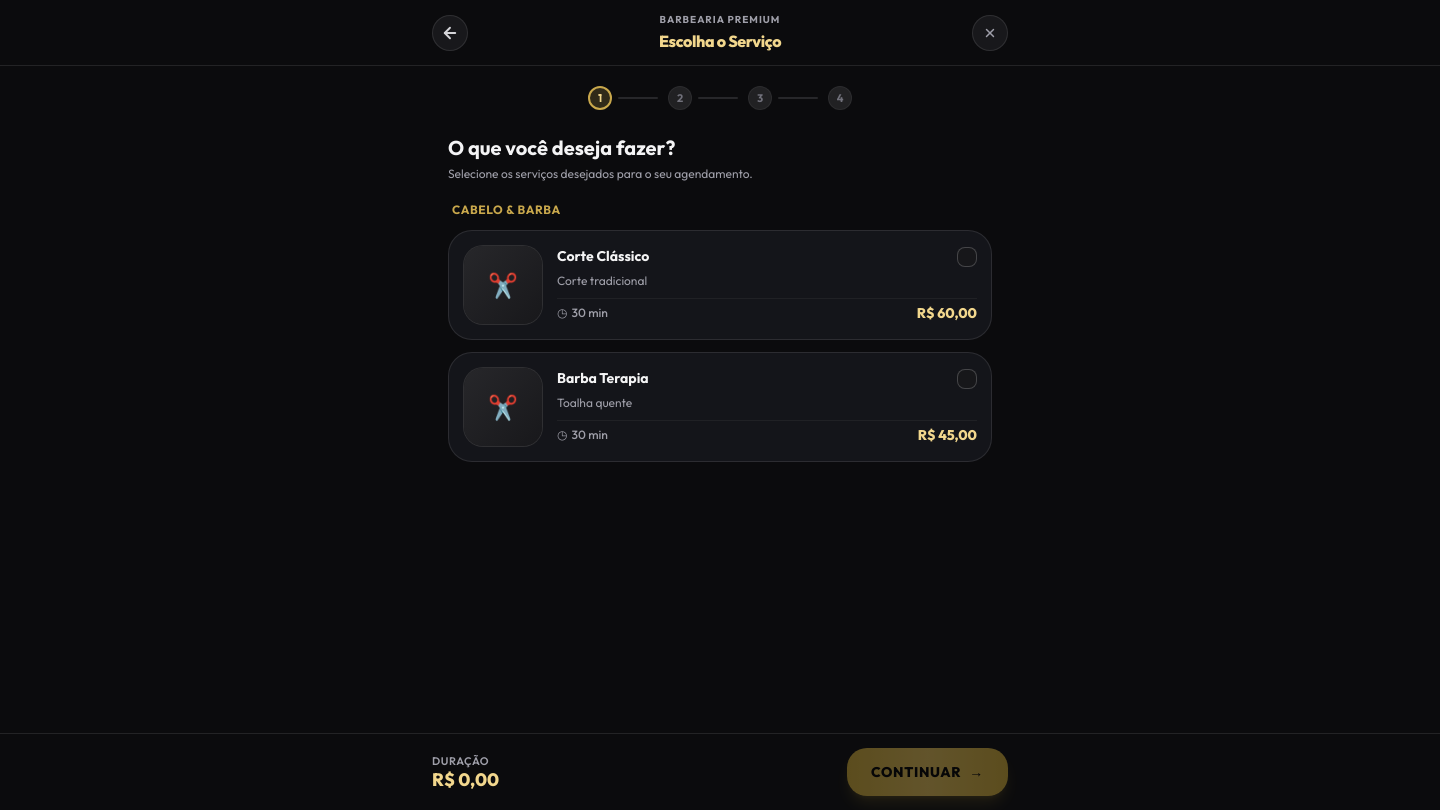
Scenario: Agendamento Público 2.0 UI Suite › renderiza a vitrine de serviços inicial com contador de itens
The width and height of the screenshot is (1440, 810).
Expected: the heading "Corte Clássico" is shown, [557, 247, 649, 266]
Expected: the heading "Barba Terapia" is shown, [557, 369, 649, 388]
# Select service
Step 1. Click the checkbox labelled "Corte Clássico" → [470, 285], box [462, 277, 478, 293]
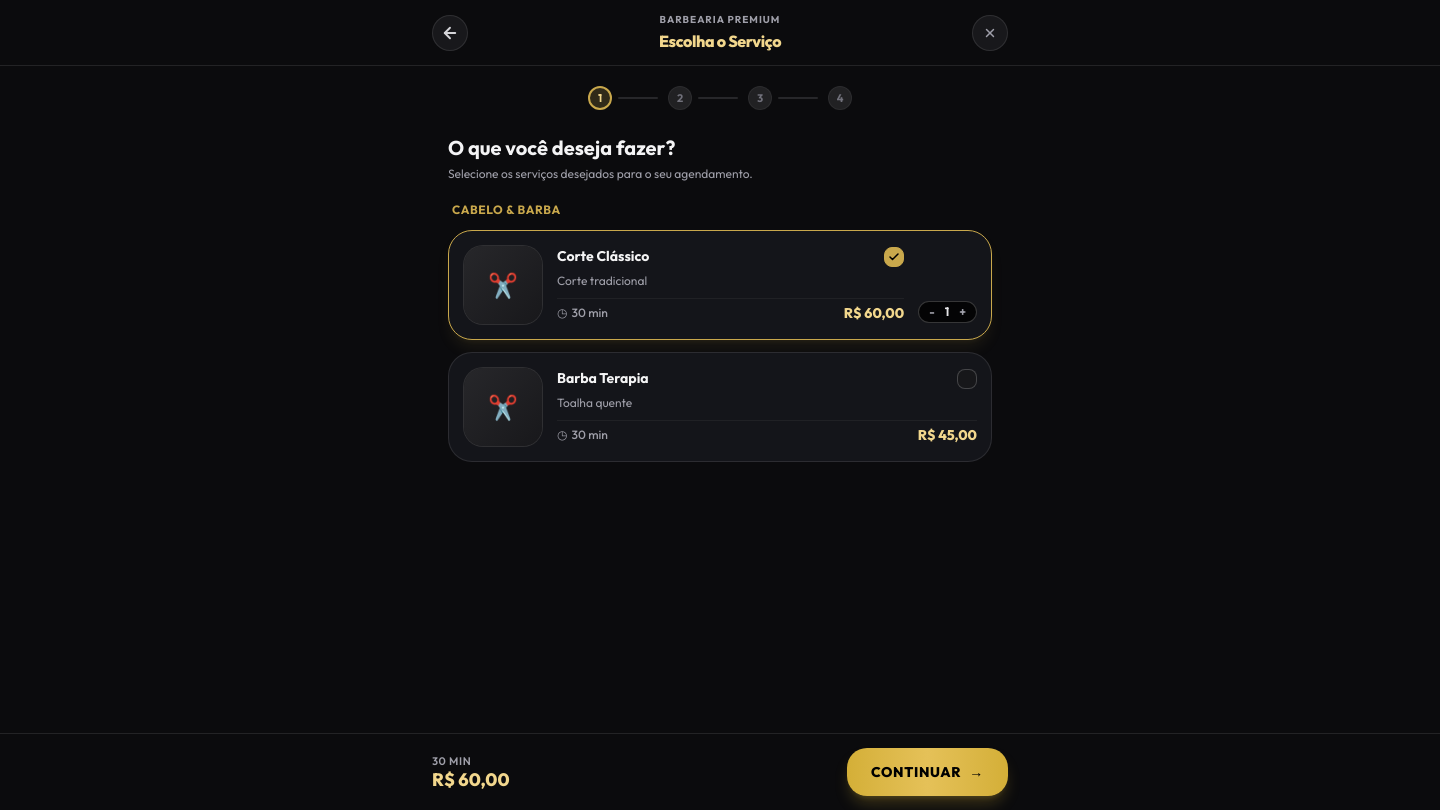
Expected: the button "Continuar →" is enabled, [847, 748, 1008, 796]
